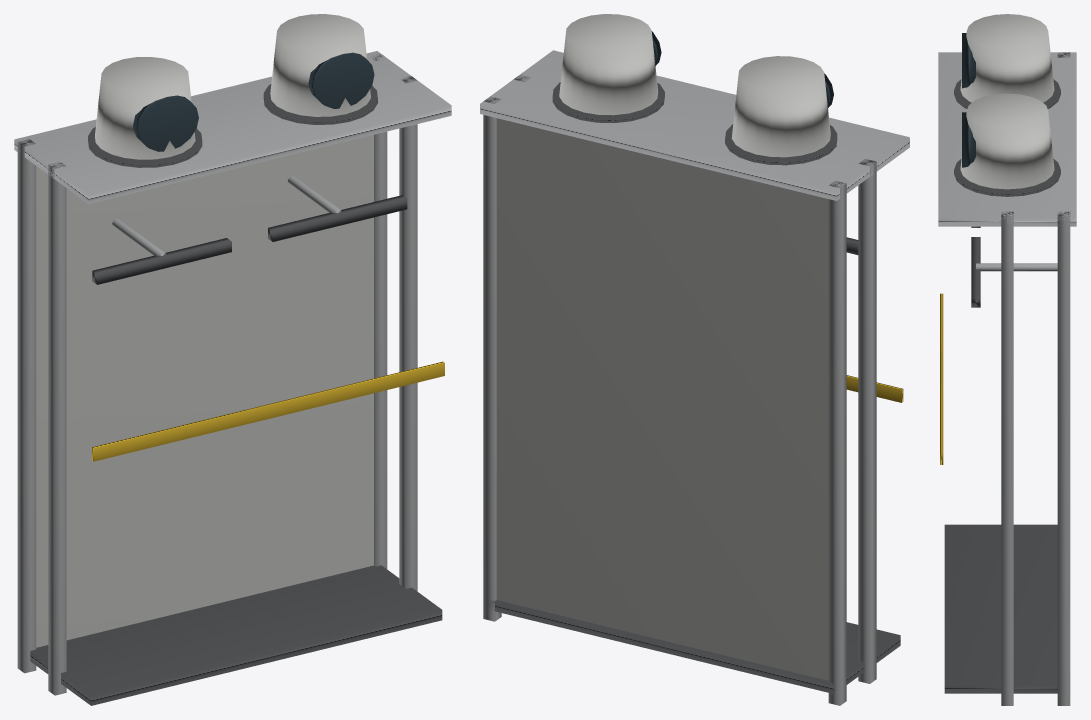
The model's file is suit_rack.glb.
3 renders of one model, left to right at view 1: azimuth 30°, elevation 25°; view 2: azimuth 150°, elevation 25°; view 3: azimuth 270°, elevation 25°, orthographic. The views are drawn at different scales.
Visible parts, largest first — view 1: suit_rack; view 2: suit_rack; view 3: suit_rack.
Boxes of the visible parts, <box> form: suit_rack: <box>14,14,451,705</box>; suit_rack: <box>480,14,909,705</box>; suit_rack: <box>938,14,1076,705</box>.
Bounding box in the file's own units: 1.24 × 1.94 × 0.44.
